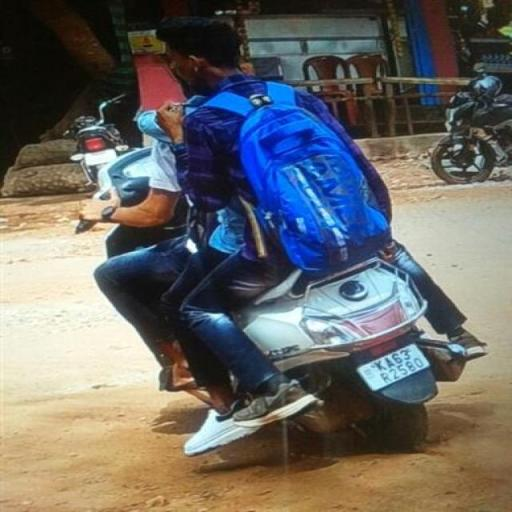tripple riding: (32, 6, 442, 285)
